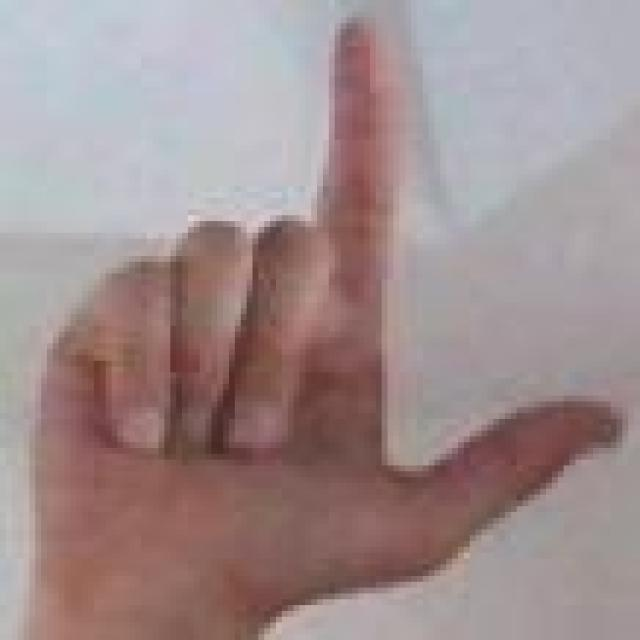L: (18, 12, 637, 619)
